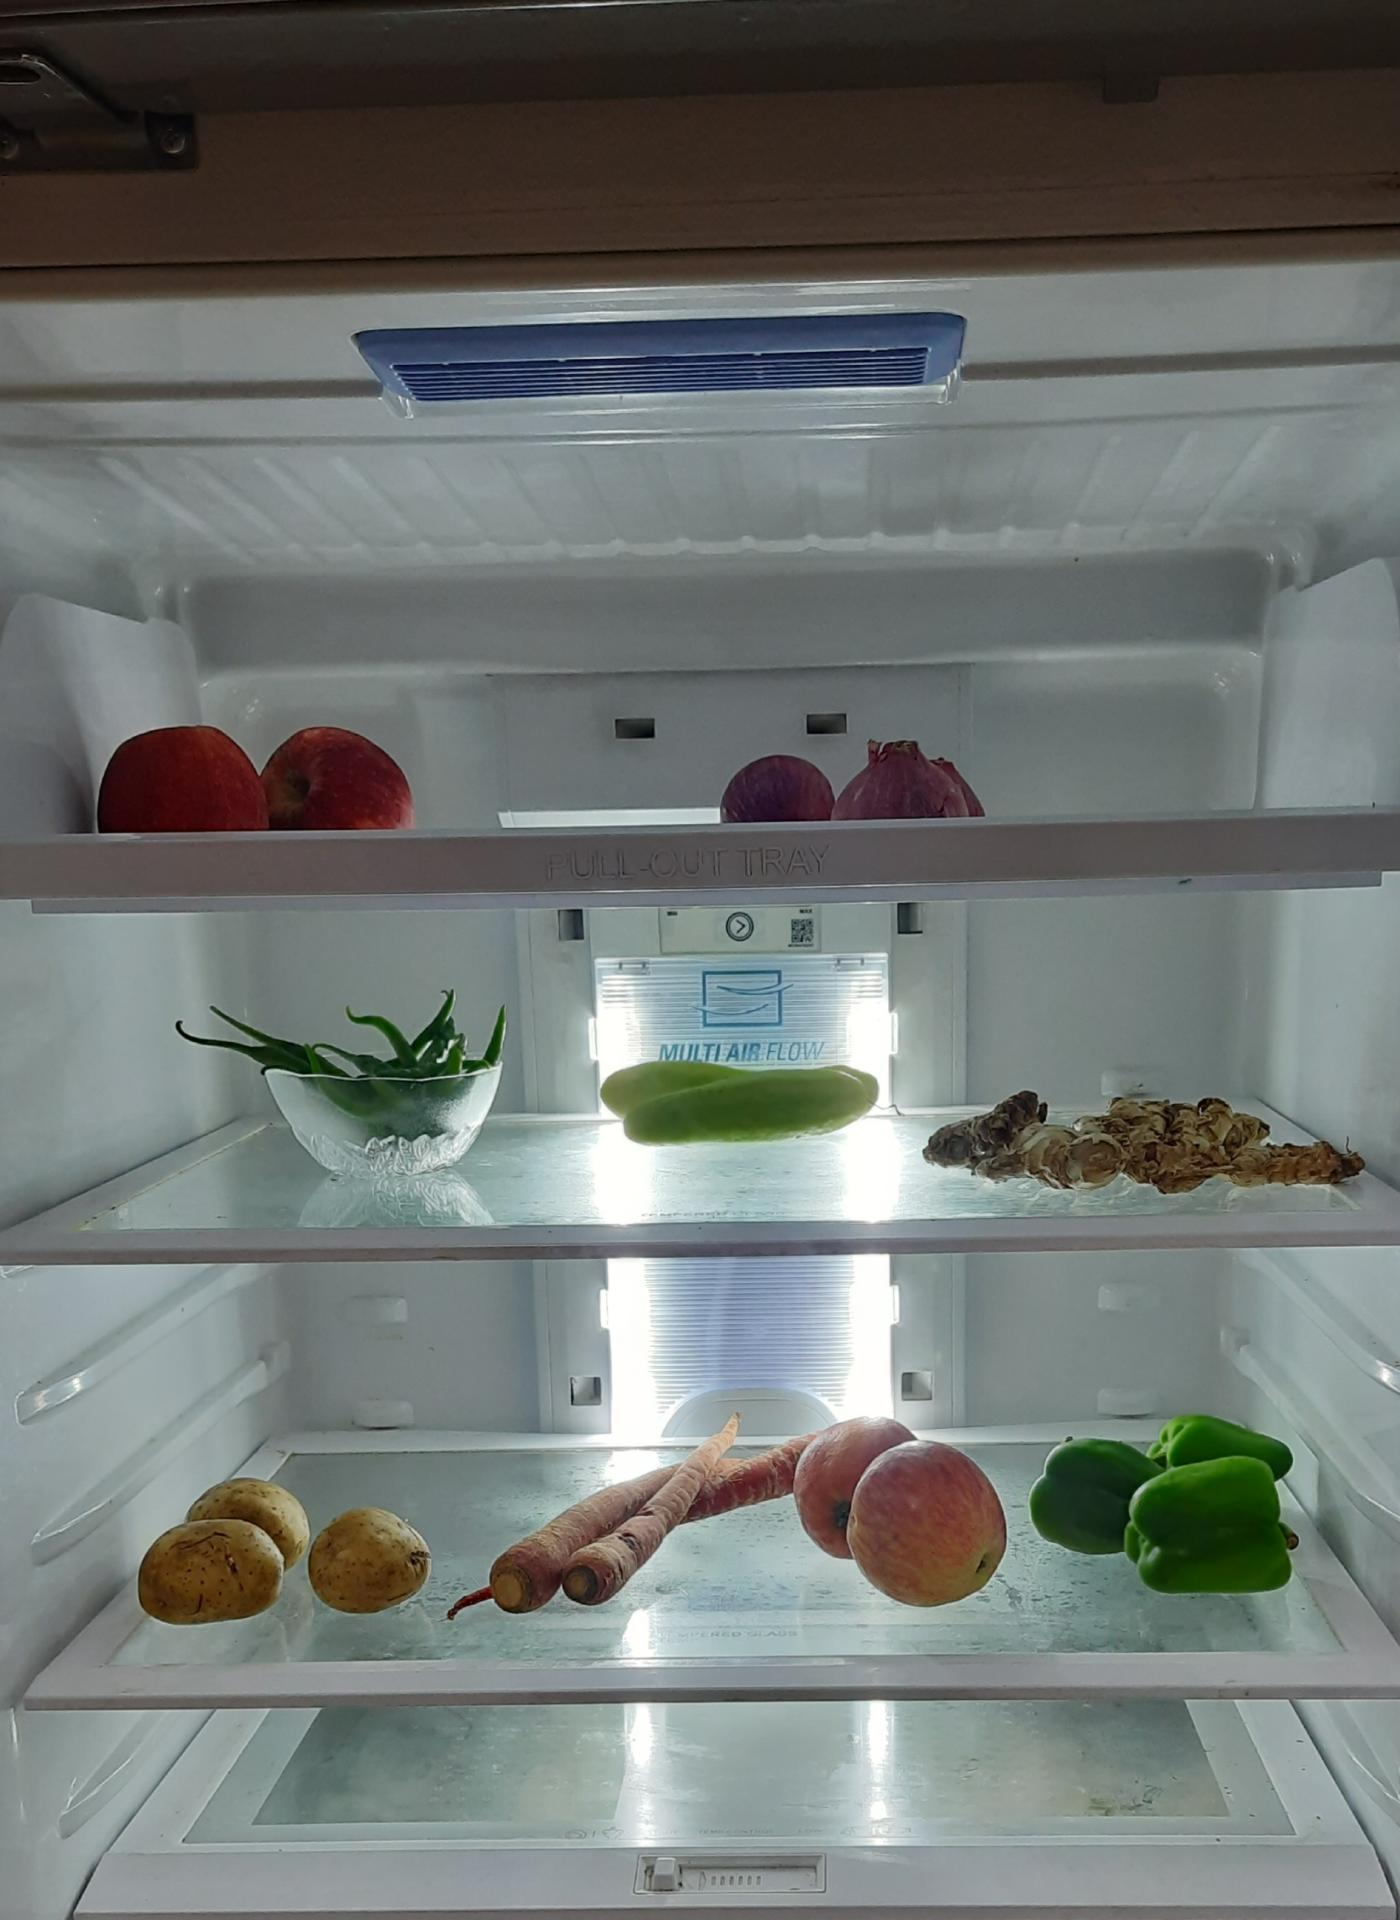apple: (802, 1419, 1008, 1604)
capsicum: (1026, 1395, 1311, 1582)
carrots: (434, 1404, 799, 1623)
chillies: (180, 991, 507, 1139)
cucumber: (592, 1051, 889, 1137)
onion: (719, 741, 987, 827)
potato: (139, 1488, 319, 1634), (304, 1500, 438, 1613)
tomato: (88, 716, 409, 839)
